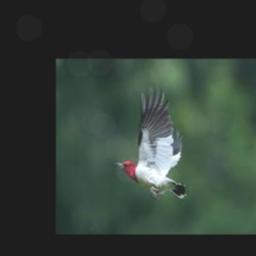Woodpecker: (114, 86, 190, 198)
